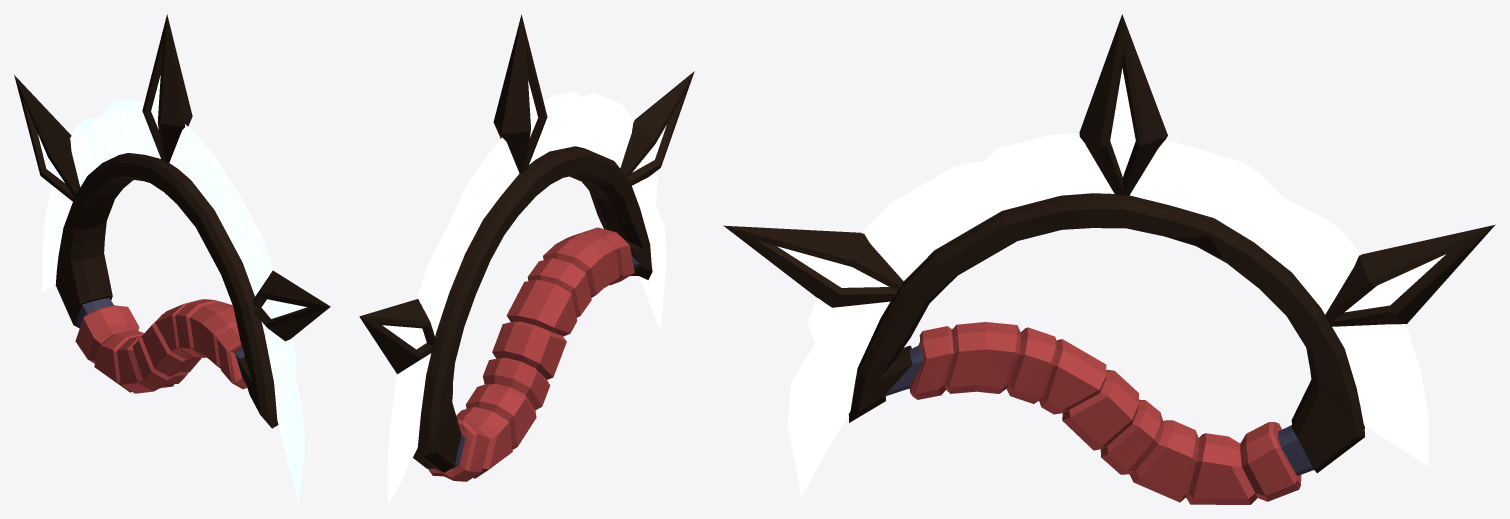
Rendered from SFFA_Weapon_Chakram_Runical_001.fbx.
The picture shows the model from 3 angles, left to right: view 1: azimuth 30°, elevation 25°; view 2: azimuth 150°, elevation 25°; view 3: azimuth 270°, elevation 25°; orthographic projection. The views are drawn at different scales.
Parts seen in each view (by area): view 1: SFFA_Weapon_Chakram_Runical_001; view 2: SFFA_Weapon_Chakram_Runical_001; view 3: SFFA_Weapon_Chakram_Runical_001.
Boxes of the visible parts, x1=… form: SFFA_Weapon_Chakram_Runical_001: x1=14, y1=14, x2=330, y2=503; SFFA_Weapon_Chakram_Runical_001: x1=359, y1=14, x2=694, y2=504; SFFA_Weapon_Chakram_Runical_001: x1=723, y1=14, x2=1495, y2=504.
Size of the model in its own units: 3.46 by 28.64 by 41.35.
